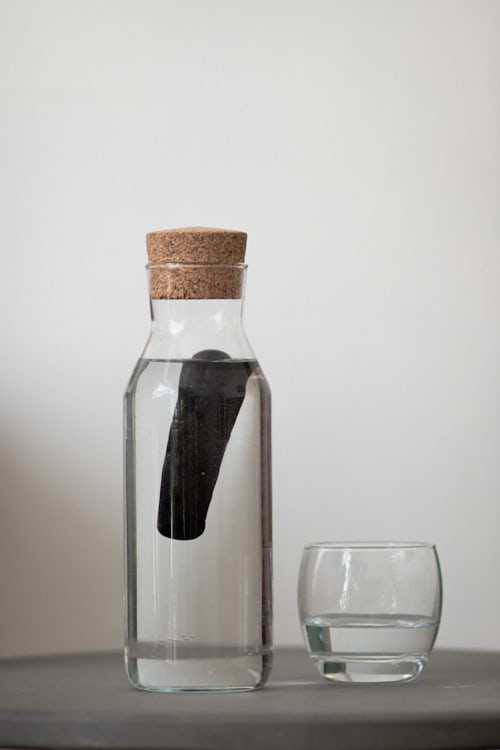Bottle: (120, 221, 290, 695)
Glass: (303, 533, 456, 691)
